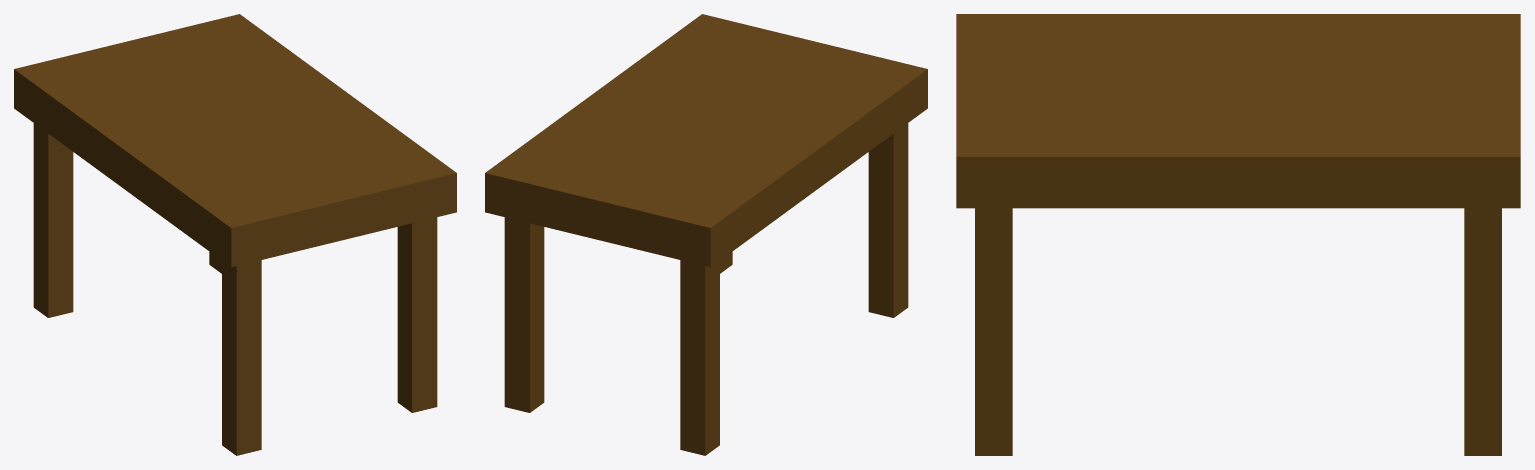
File: Table.obj
3 renders of one model, left to right at view 1: azimuth 30°, elevation 25°; view 2: azimuth 150°, elevation 25°; view 3: azimuth 270°, elevation 25°, orthographic. The views are drawn at different scales.
Parts seen in each view (by area): view 1: cube; view 2: cube; view 3: cube.
Part boxes in pixels (x1,y1,x2,y2): cube: (14, 14, 456, 455); cube: (485, 14, 927, 455); cube: (956, 14, 1520, 455).
Size of the model in its own units: 1.12 by 1.12 by 1.88.
